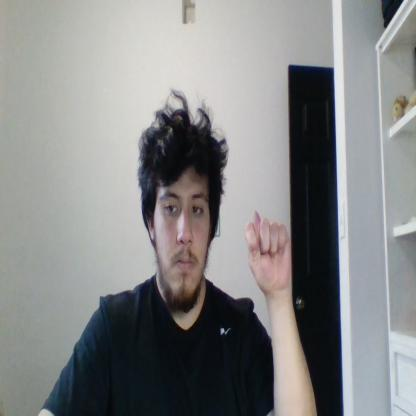T: (246, 210, 291, 292)
